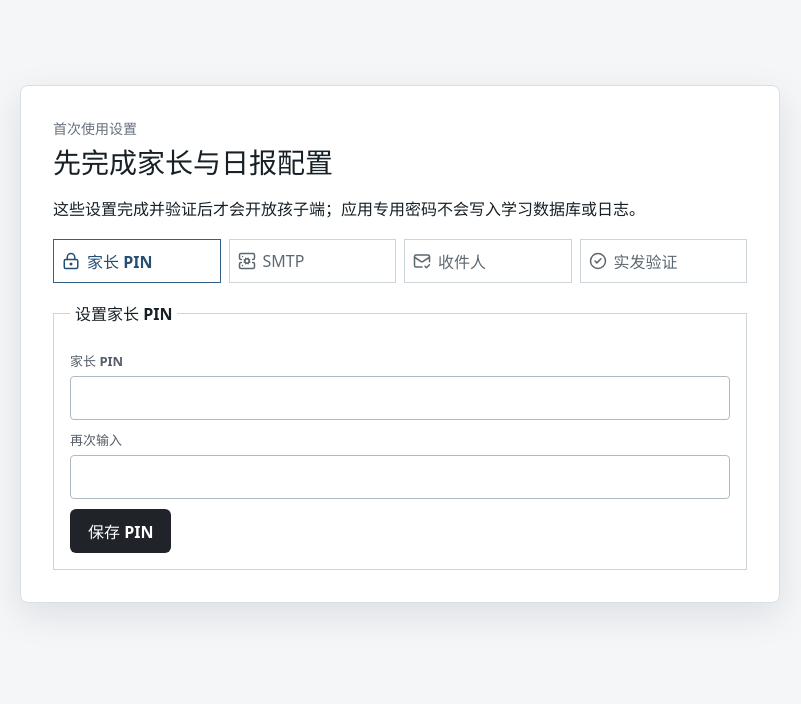
reads only after PIN, prefills no password, reuses exact protected sender and leaves recipient/test explicit
The image size is (801, 704).
Type "2468" into the password field named "初始化家长PIN".
click(400, 398); type("2468")  # box [70,376,730,420]
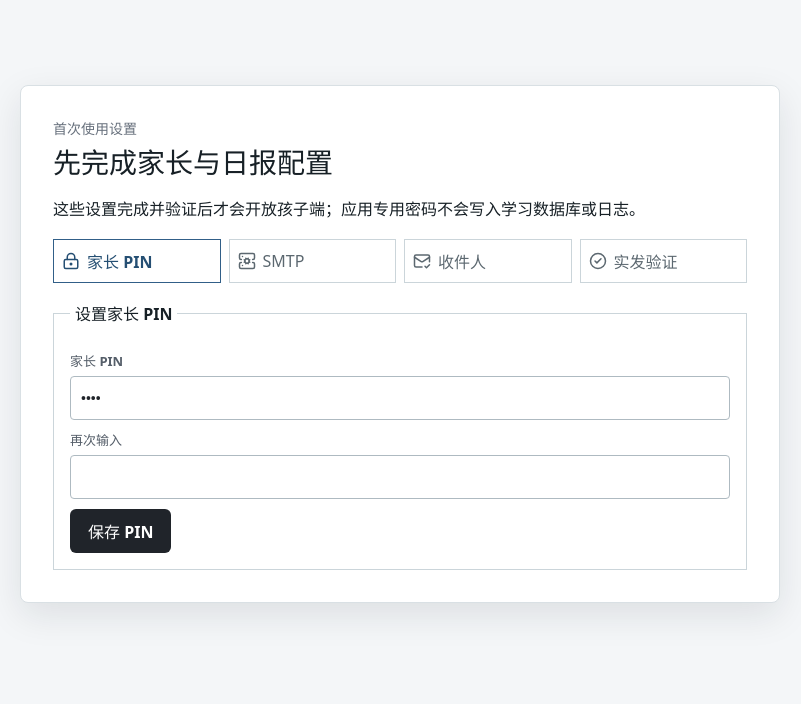
Type "2468" into the password field named "再次输入家长PIN".
click(400, 477); type("2468")  # box [70,455,730,499]
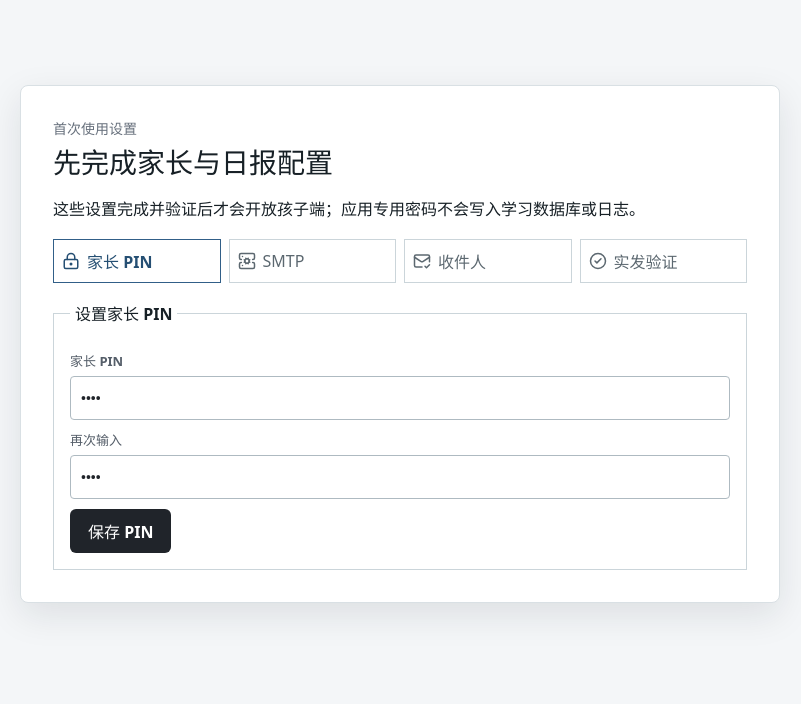
Click the button "保存 PIN".
click(121, 531)  # box [70,509,172,553]
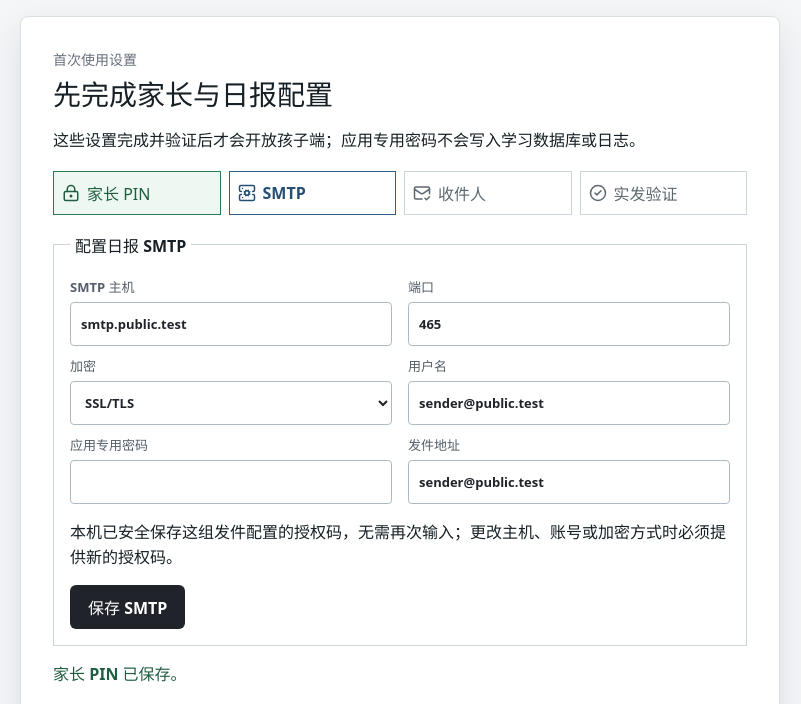
expect the field named "初始化SMTP主机" holds "smtp.public.test": met, box [70,302,392,346]
expect the password field named "初始化SMTP密码" is empty: met, box [70,460,392,504]
Click the button "保存 SMTP".
click(128, 608)  # box [70,586,185,630]
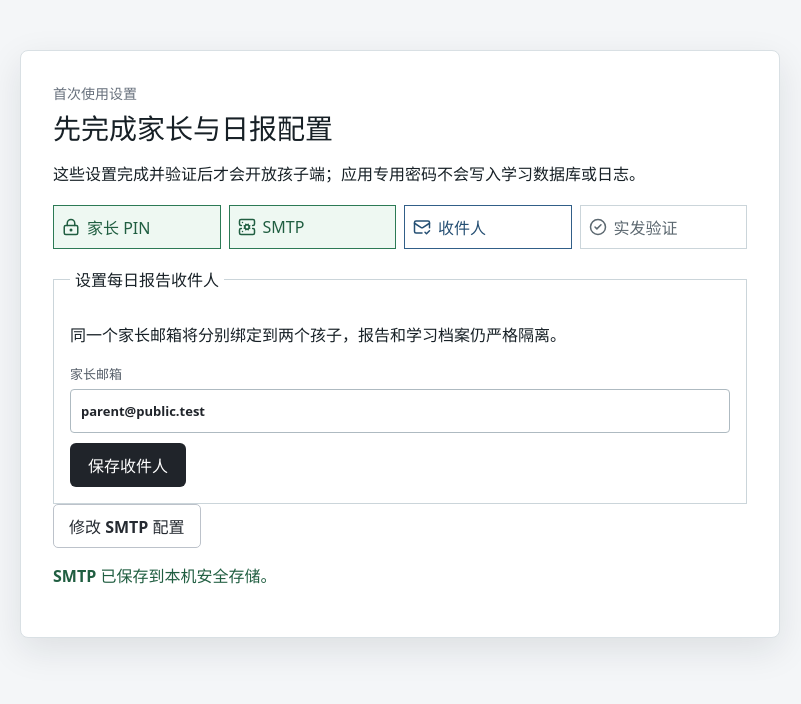
expect the field named "初始化收件邮箱" holds "parent@public.test": met, box [70,389,730,433]
